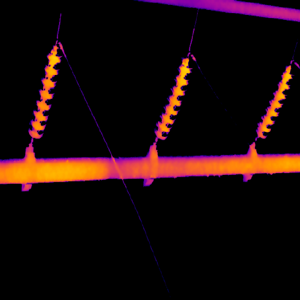insulator: (25, 44, 62, 140), (150, 57, 191, 140), (251, 63, 294, 137)
